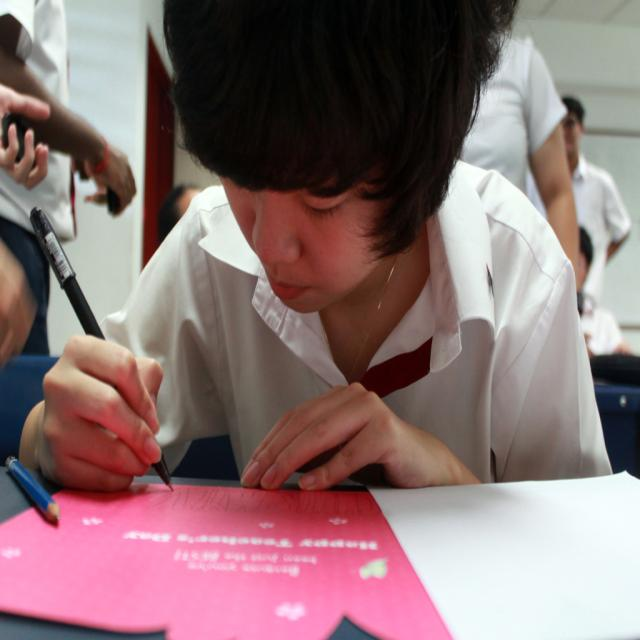pen: (27, 202, 173, 494)
